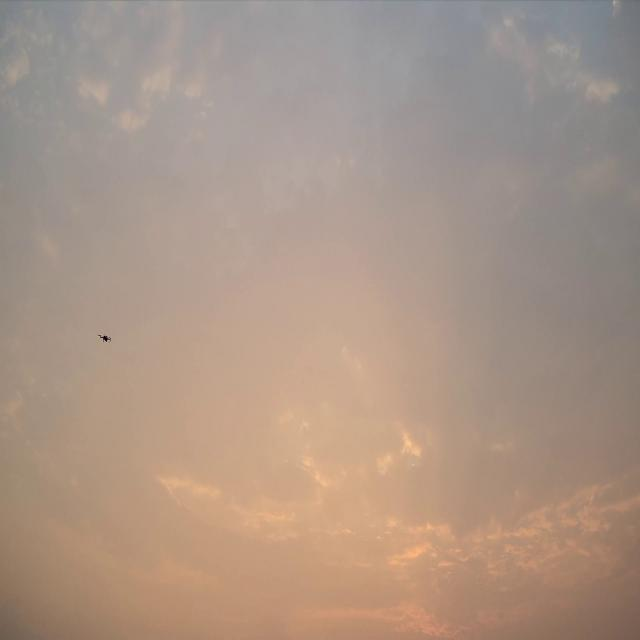drone: (98, 334, 110, 342)
